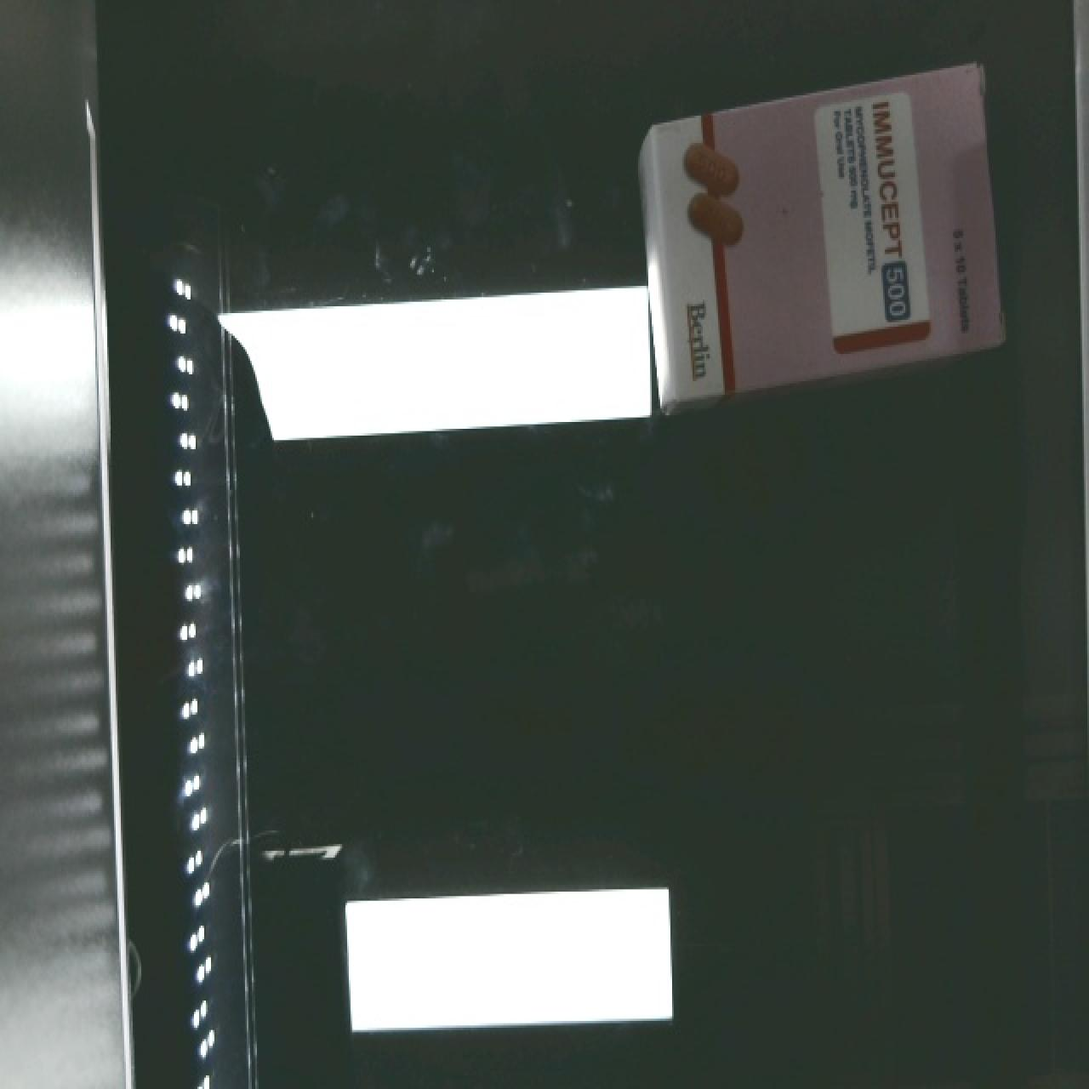medicine_label_obb: (856, 91, 931, 340)
